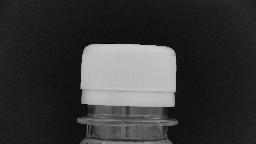Loose Cap: (75, 84, 181, 128)
